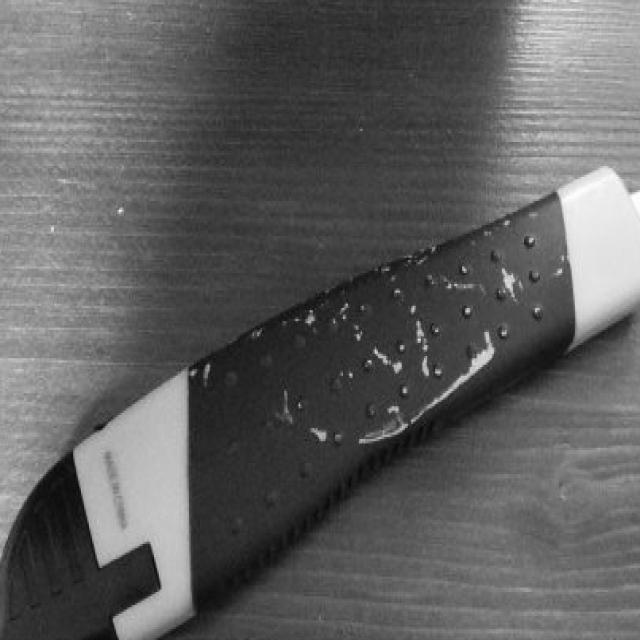estilete: (0, 167, 640, 640)
